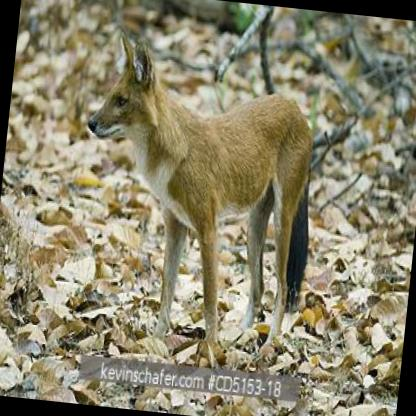dhole: (64, 27, 327, 365)
